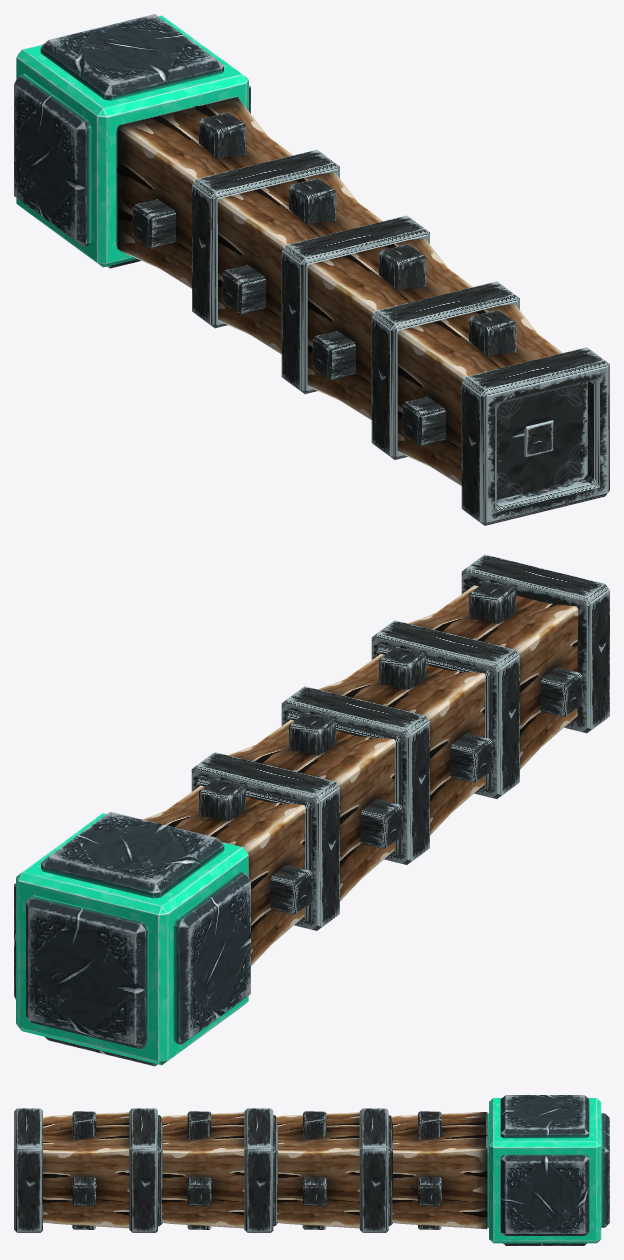
The model's file is step_005.glb.
3 views of the same model, one above another, from view 1: azimuth 30°, elevation 25°; view 2: azimuth 150°, elevation 25°; view 3: azimuth 270°, elevation 25° (orthographic). The views are drawn at different scales.
Visible parts, largest first — view 1: SingleWoodenBlock_a77dbedb-935f-4370-b5fc-6f179df6e2c3, StartingBlock_0f465b33-2d8e-457f-b081-c1d1e56a2cb5; view 2: SingleWoodenBlock_a77dbedb-935f-4370-b5fc-6f179df6e2c3, StartingBlock_0f465b33-2d8e-457f-b081-c1d1e56a2cb5; view 3: SingleWoodenBlock_a77dbedb-935f-4370-b5fc-6f179df6e2c3, StartingBlock_0f465b33-2d8e-457f-b081-c1d1e56a2cb5.
Part boxes in pixels (bbox=[...]): SingleWoodenBlock_a77dbedb-935f-4370-b5fc-6f179df6e2c3: bbox=[117, 96, 609, 525]; StartingBlock_0f465b33-2d8e-457f-b081-c1d1e56a2cb5: bbox=[14, 14, 250, 268]; SingleWoodenBlock_a77dbedb-935f-4370-b5fc-6f179df6e2c3: bbox=[142, 554, 609, 965]; StartingBlock_0f465b33-2d8e-457f-b081-c1d1e56a2cb5: bbox=[14, 812, 250, 1066]; SingleWoodenBlock_a77dbedb-935f-4370-b5fc-6f179df6e2c3: bbox=[14, 1108, 487, 1232]; StartingBlock_0f465b33-2d8e-457f-b081-c1d1e56a2cb5: bbox=[487, 1095, 609, 1245].
Bounding box in the file's own units: 1.13 × 1.13 × 5.17.
Materials: 2 (2 with a texture image).
